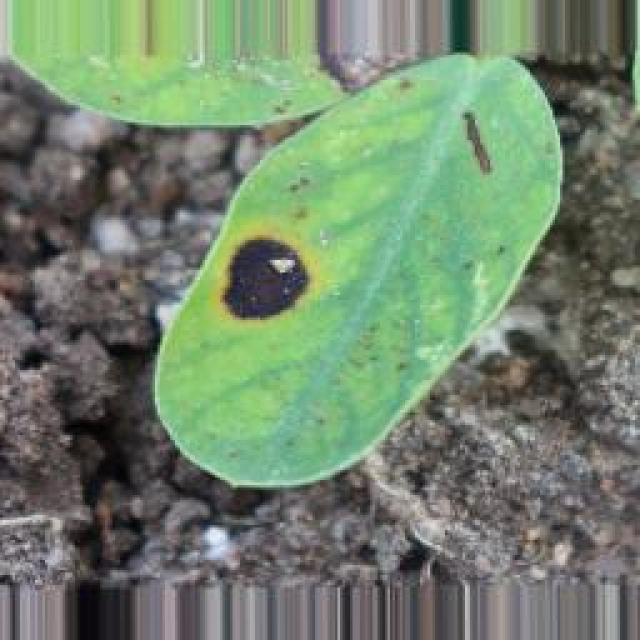Yellowish: (198, 185, 342, 366), (425, 80, 522, 221)
